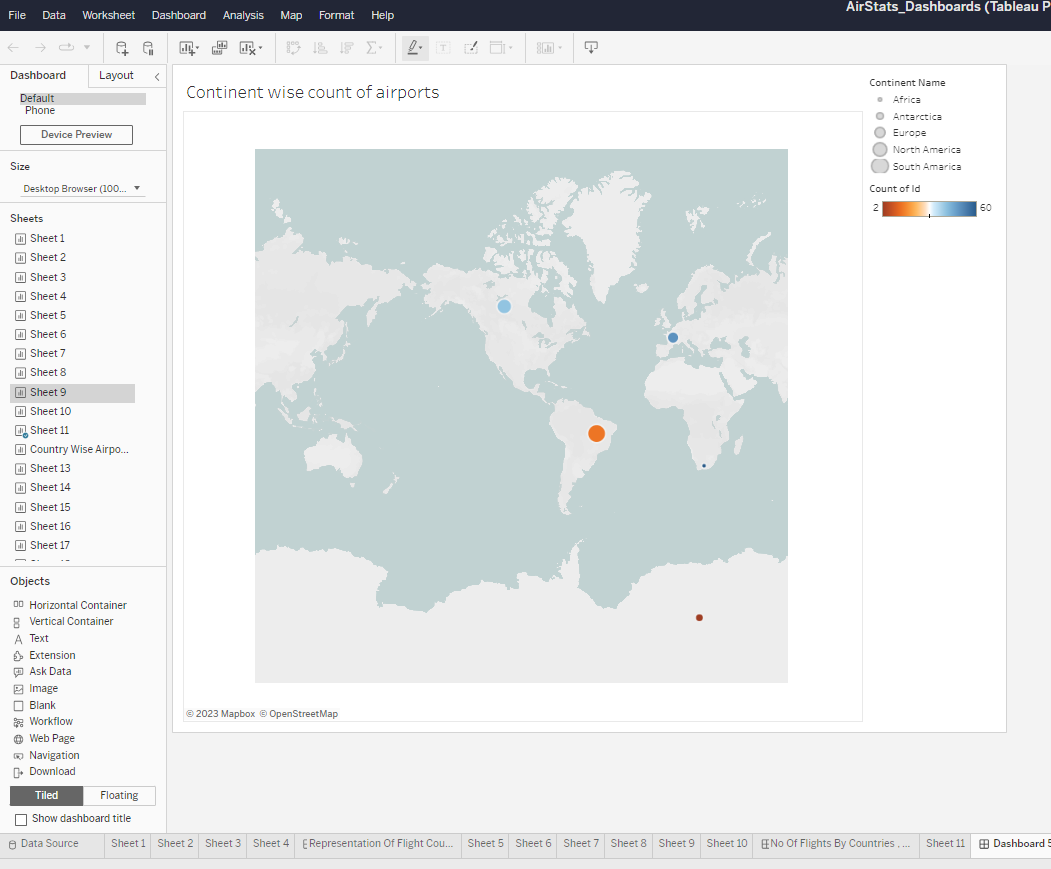

What the dashboard file says about the page in this screenshot:
{"tool":"tableau","page":{"name":"Dashboard 5","canvas":[1000,800],"ordinal":2},"visuals":[{"type":"worksheet","title":"Sheet 11","mark":"Automatic","box":[8,8,824,784]},{"type":"legend","title":"Sheet 11","param":"[federated.1s1gakv1chf7ci1a48s9z1sl9pf5].[none:Calculation_2221682034224218112:n","box":[832,8,160,135]},{"type":"legend","title":"Sheet 11","param":"[federated.1s1gakv1chf7ci1a48s9z1sl9pf5].[cnt:id:qk]","box":[832,143,160,73]}]}

Visuals, with their boxes on the page's 1000x800 design canvas (x1, y1, x2, y2). These are canvas units, not pixel positions in the 1051x869 screenshot, which may show the page scaled, cropped or inside an application window:
"Sheet 11" worksheet: <bbox>8, 8, 832, 792</bbox>
"Sheet 11" legend: <bbox>832, 8, 992, 143</bbox>
"Sheet 11" legend: <bbox>832, 143, 992, 216</bbox>
